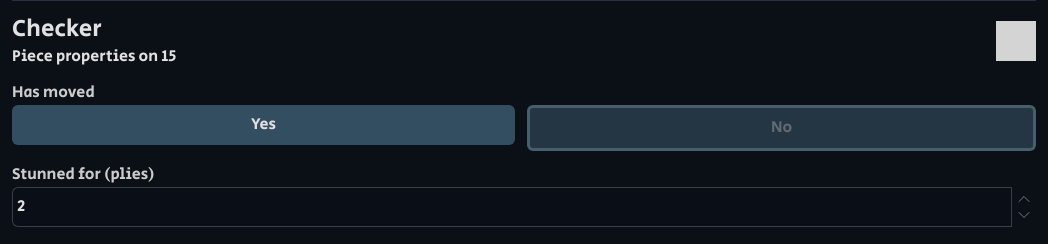
SetupPositionPieceProperties › should increment stunnedForTurns when increment is clicked
This screenshot has width=1048, height=244.
Click the button with test id "setupPiecePropertiesIncrementStunned" at (1024, 199), box 1016,191 -> 1032,207
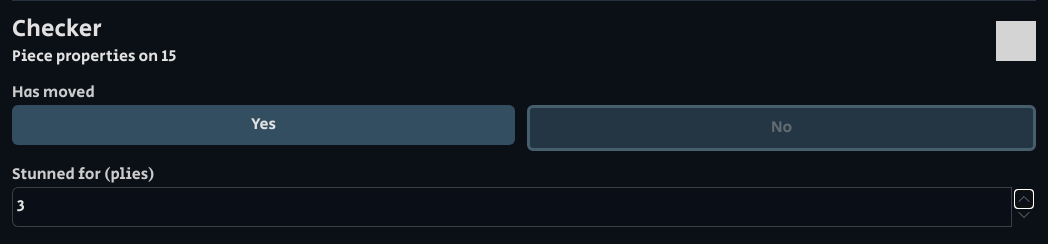
Now the number field labelled "Stunned for (plies)" holds "3", box 12,187 -> 1012,227
